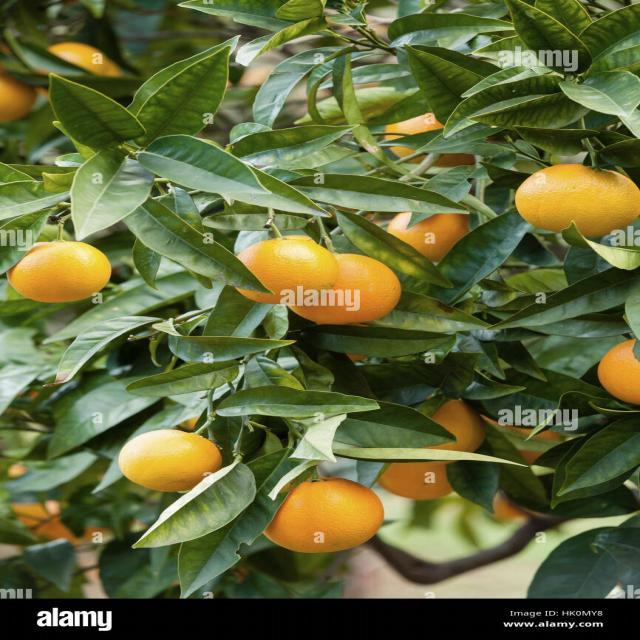Jeruk Sudah Matang: (255, 475, 394, 553), (517, 160, 640, 240), (297, 248, 410, 332), (229, 237, 346, 306), (10, 234, 121, 306), (120, 426, 226, 489), (376, 114, 484, 170), (382, 207, 497, 259), (404, 397, 486, 454), (376, 458, 476, 502), (587, 338, 640, 410)
